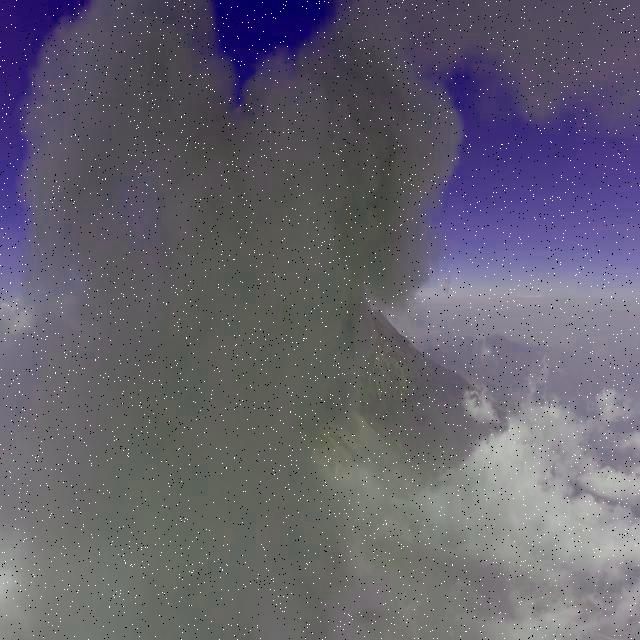Plume: (0, 0, 461, 640), (406, 0, 640, 124)
